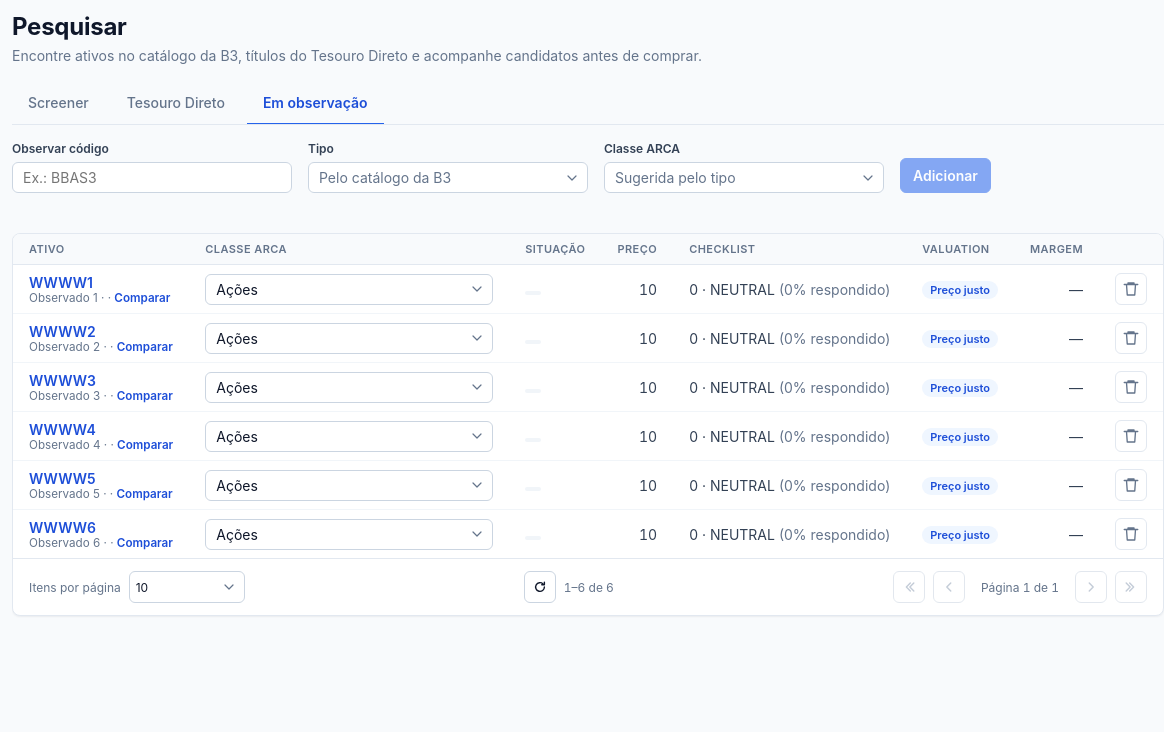
Scenario: paged research › pages the watchlist
Check: the link "WWWW6" is shown, box x1=29 y1=518 x2=96 y2=536
Click the dropdown labelled "Itens por página".
click(187, 587)  # box x1=129 y1=571 x2=245 y2=603
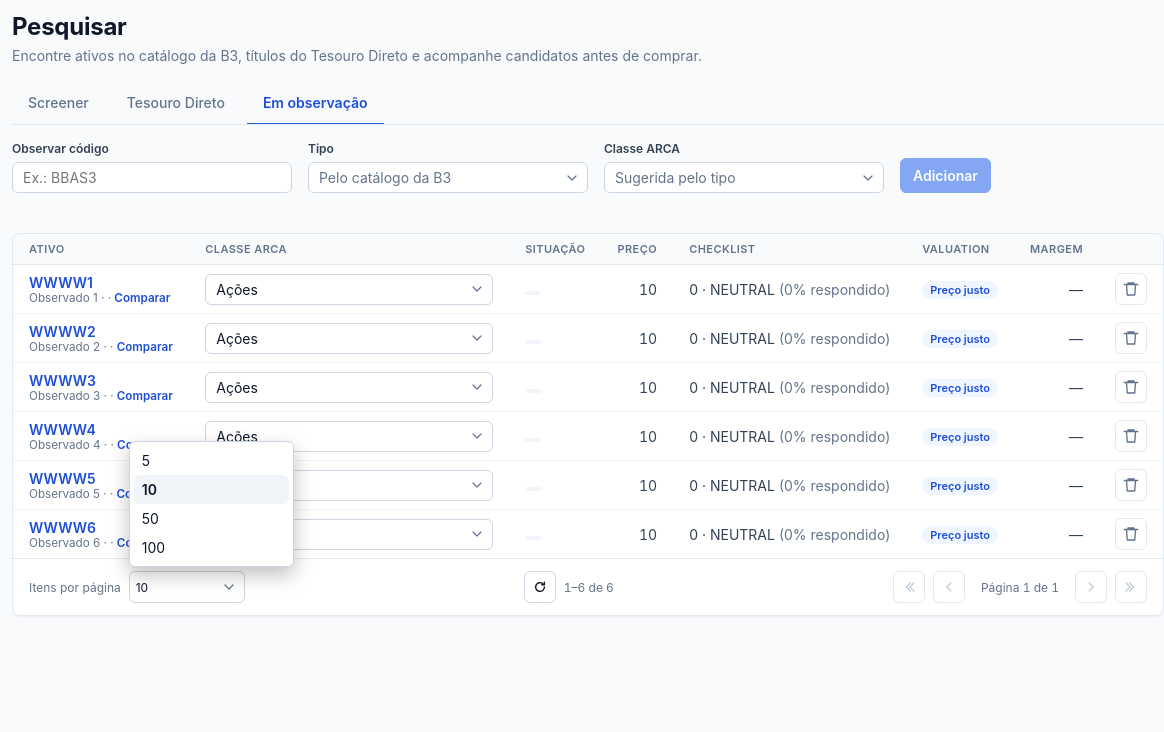
Click the option "5".
click(146, 460)  # box x1=142 y1=452 x2=150 y2=469
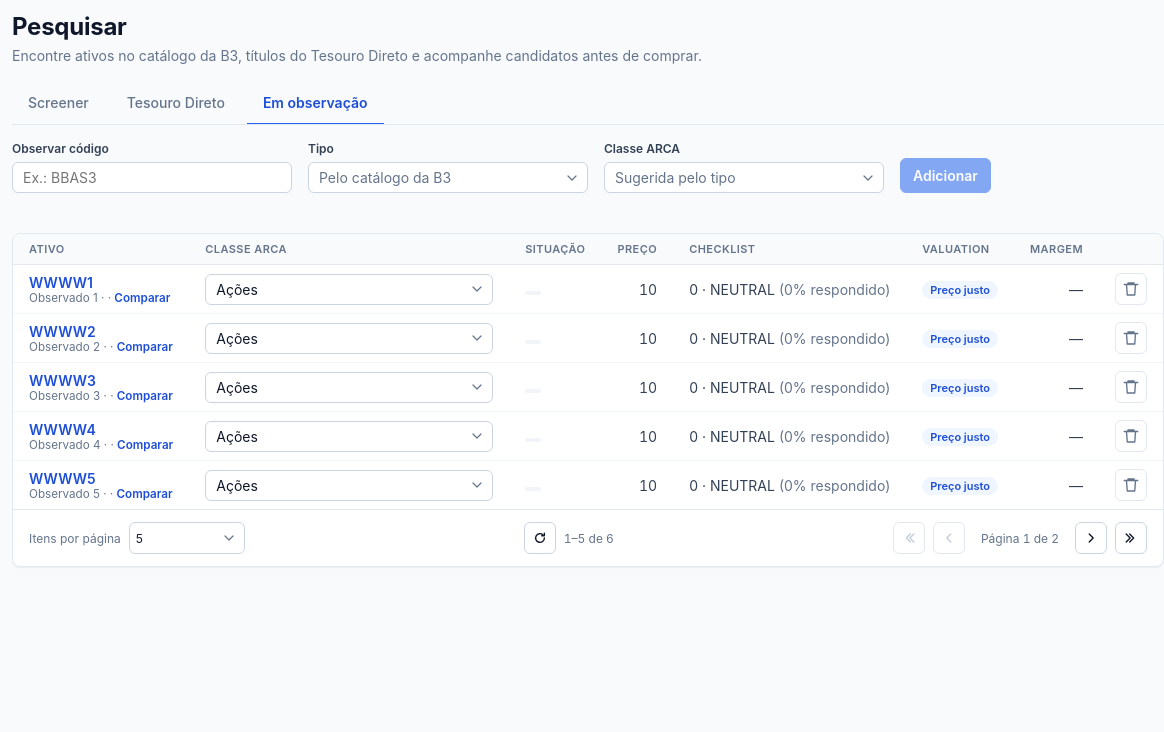
Check: the link "WWWW6" is gone
Check: the text "Página 1 de 2" is shown, box x1=981 y1=530 x2=1059 y2=546
Click the button named "Última página".
click(1131, 538)  # box x1=1115 y1=522 x2=1147 y2=554
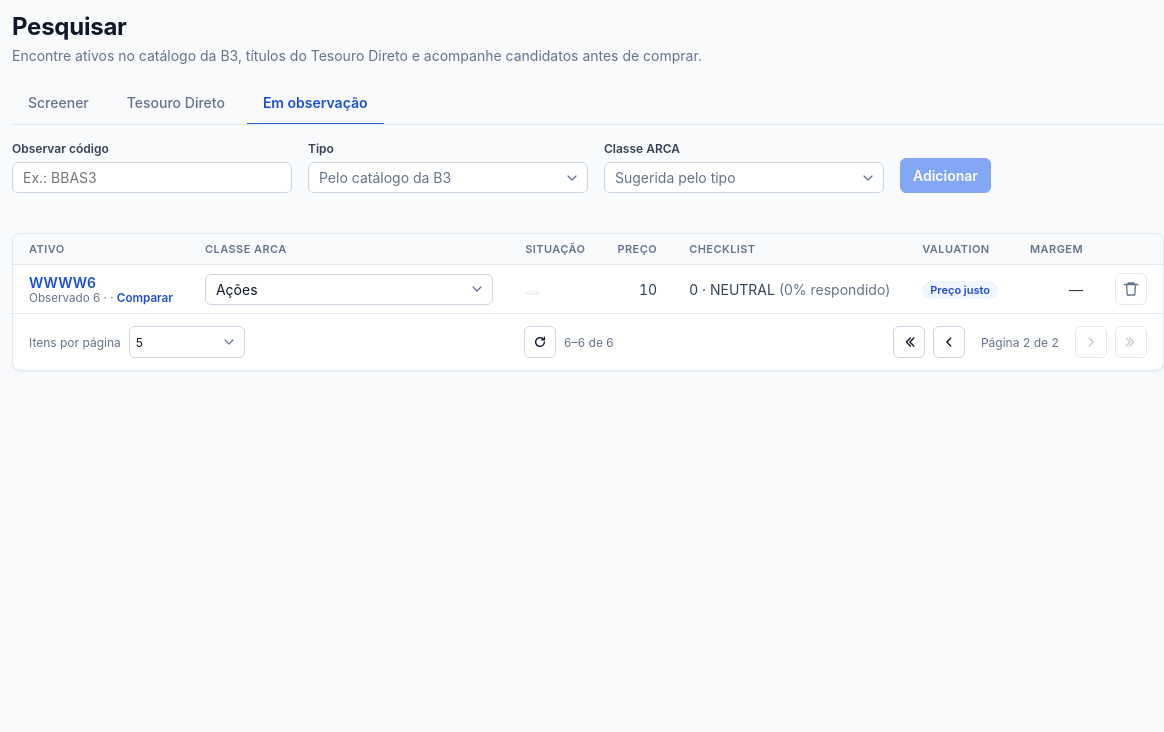
Check: the link "WWWW6" is shown, box x1=29 y1=274 x2=96 y2=290
